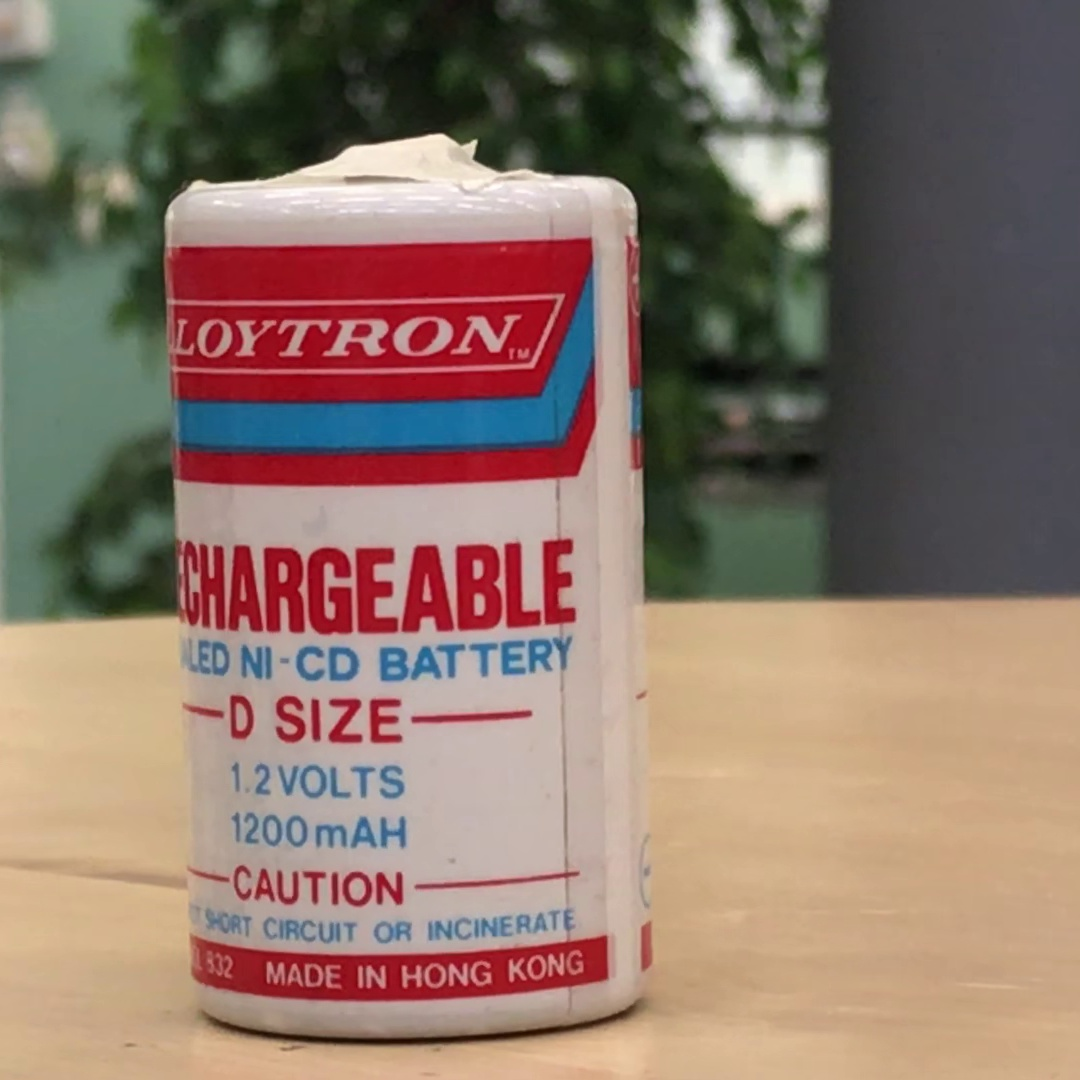keyword: (231, 637, 369, 689), (222, 756, 308, 801)
